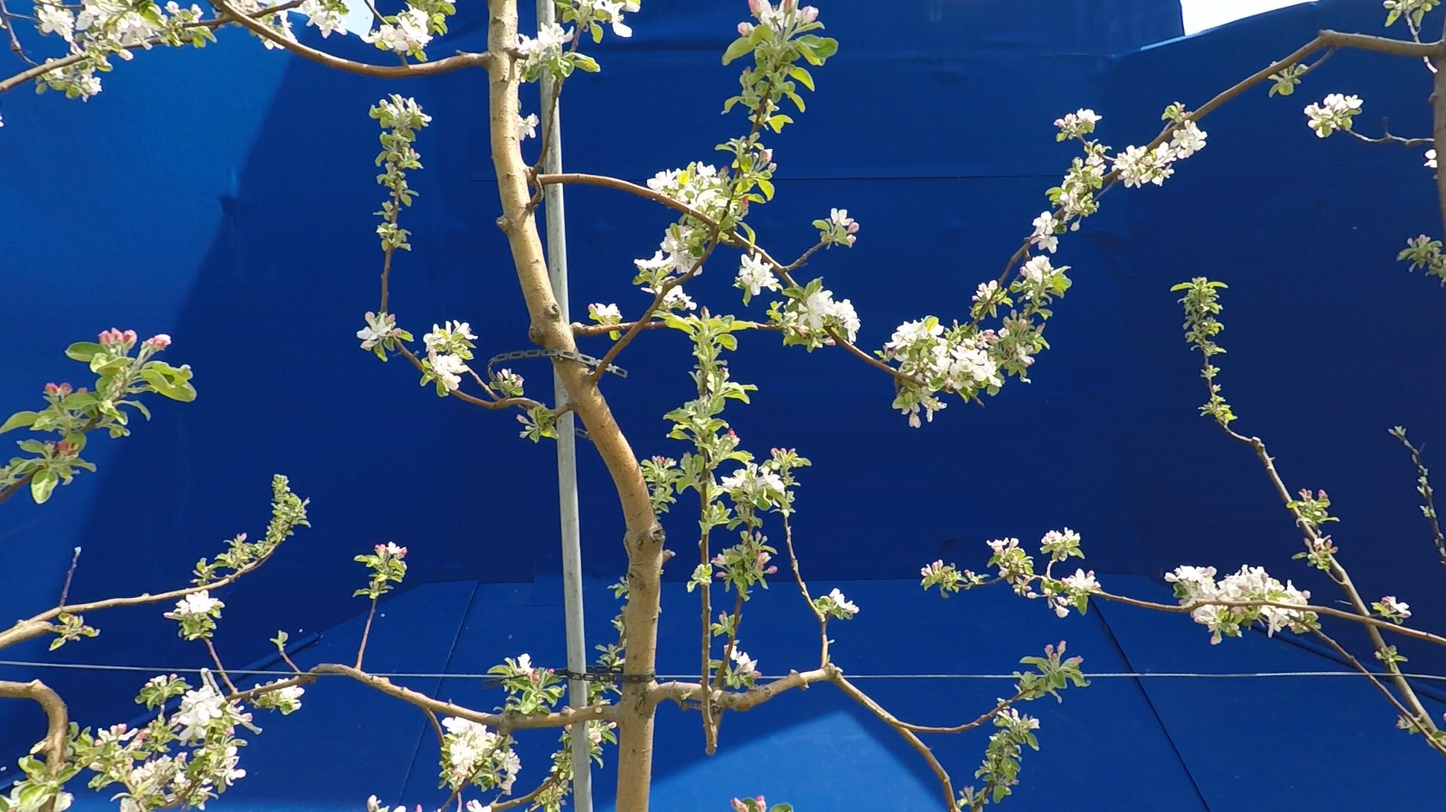flower: (886, 316, 1002, 396), (1084, 120, 1207, 189), (1165, 565, 1310, 609), (422, 321, 478, 392), (164, 686, 229, 746), (795, 286, 860, 345), (361, 3, 433, 55), (442, 717, 497, 777), (634, 229, 702, 274), (519, 23, 574, 71), (714, 461, 786, 497), (112, 12, 166, 51), (736, 253, 784, 296), (1305, 95, 1363, 130), (34, 5, 78, 48), (300, 0, 347, 38), (594, 0, 641, 37), (1028, 212, 1066, 254), (76, 0, 127, 31), (1191, 604, 1228, 645), (215, 740, 246, 786), (357, 313, 395, 350), (1258, 606, 1300, 639), (1020, 256, 1065, 285), (680, 184, 723, 214), (749, 0, 793, 29), (174, 590, 224, 615), (511, 105, 540, 148), (505, 654, 548, 683), (1054, 109, 1102, 134), (1057, 180, 1084, 223), (497, 750, 521, 796), (647, 165, 689, 191), (731, 646, 762, 680), (1373, 597, 1412, 624), (1042, 520, 1081, 545), (277, 10, 304, 46), (95, 724, 138, 746), (1063, 569, 1102, 593), (130, 761, 164, 788), (663, 285, 697, 311), (165, 758, 192, 789), (830, 589, 859, 616), (402, 98, 432, 122), (831, 209, 859, 234), (99, 329, 137, 347), (588, 303, 623, 321), (794, 0, 819, 25), (498, 369, 526, 390), (987, 537, 1019, 555), (376, 542, 408, 560), (697, 162, 717, 190), (81, 69, 102, 95), (1014, 343, 1035, 368), (276, 686, 305, 703), (976, 281, 998, 301), (121, 796, 147, 812), (54, 792, 72, 812), (148, 335, 171, 350), (380, 100, 399, 118), (466, 799, 492, 812), (738, 23, 762, 36), (1055, 602, 1069, 618), (736, 798, 750, 812), (754, 797, 767, 812), (118, 50, 133, 61), (151, 676, 167, 686), (1327, 122, 1338, 136), (909, 416, 921, 428), (847, 235, 857, 247), (926, 407, 933, 423), (709, 177, 721, 185), (1317, 127, 1325, 138), (642, 288, 655, 294), (655, 285, 663, 294), (393, 329, 403, 332)
